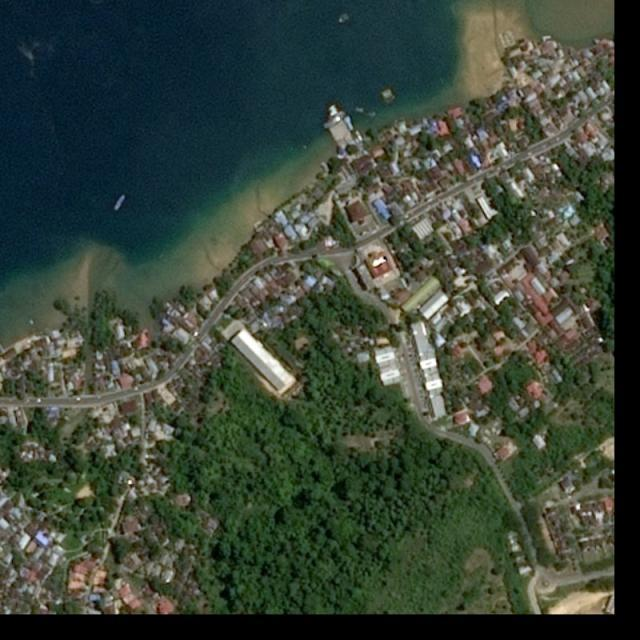ship: (113, 194, 127, 212), (338, 14, 350, 24)
